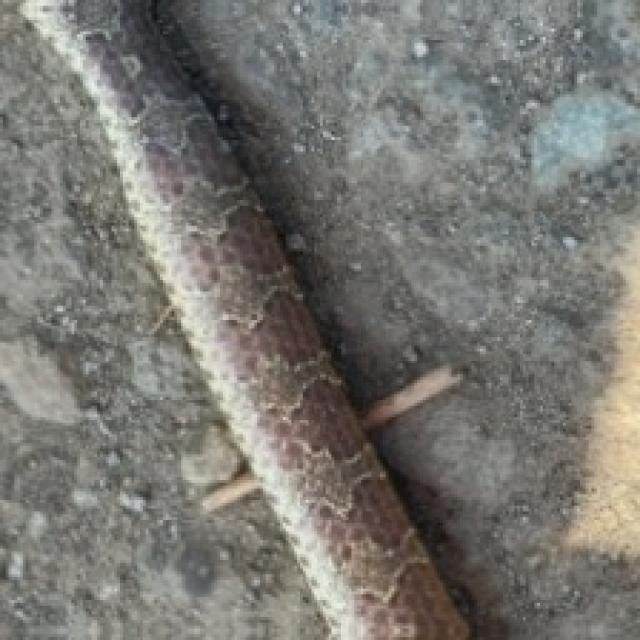mullers wolf snake: (0, 3, 463, 637)
